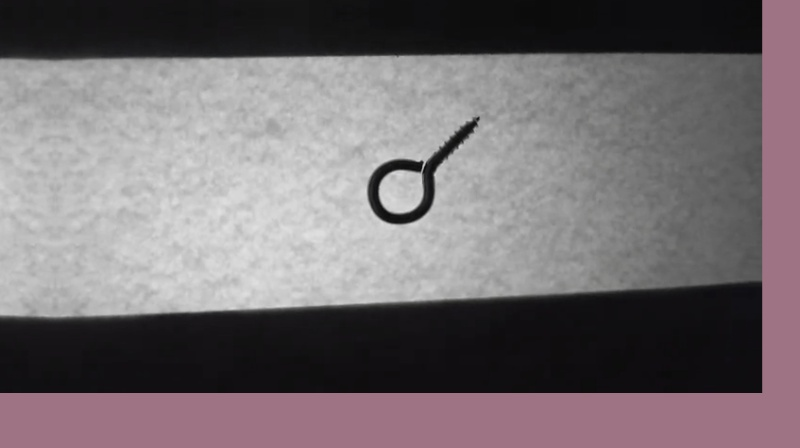O001: (364, 110, 483, 226)
